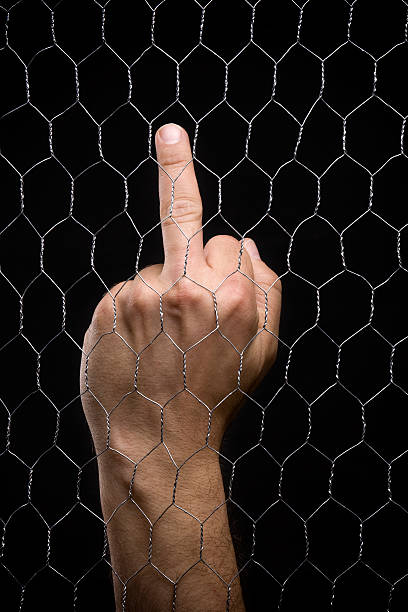insulting_gesture: (82, 123, 279, 457)
